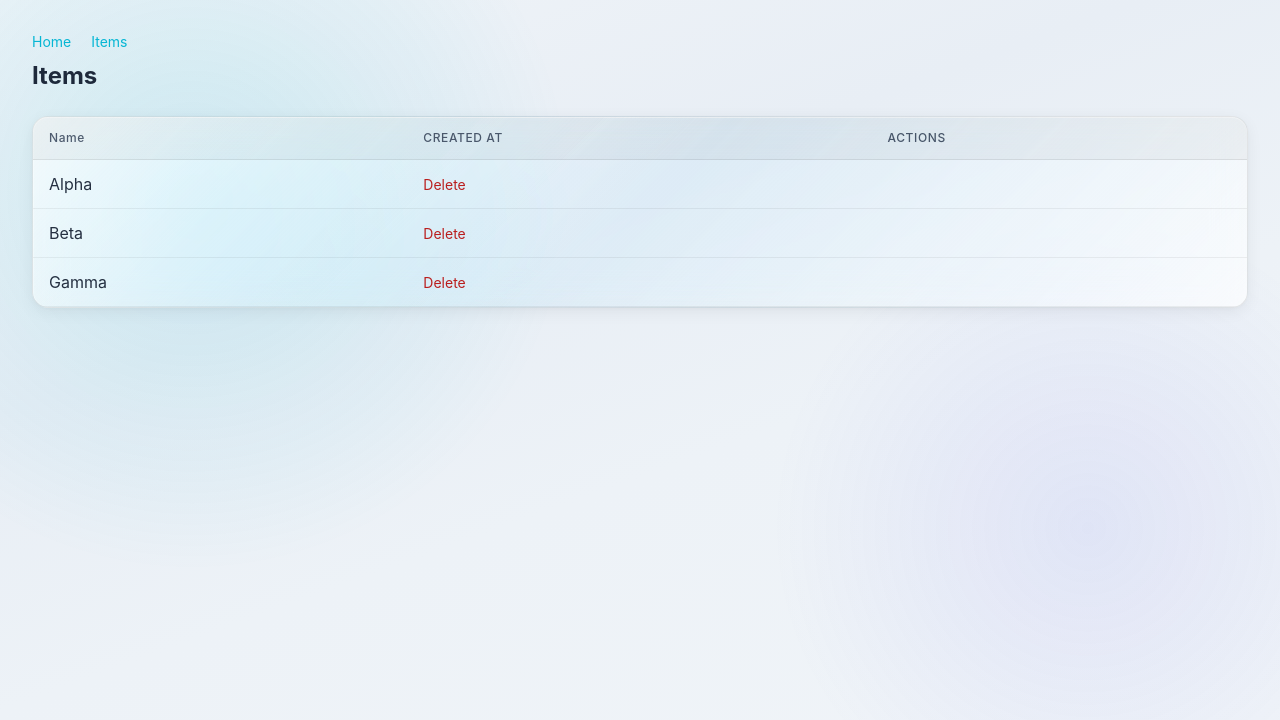
Test case: EntityListPage › uses the custom deleteMessage in the ConfirmDialog
Click the button "Delete" in the row of "Alpha" at point(444, 185), box x1=423 y1=175 x2=466 y2=195
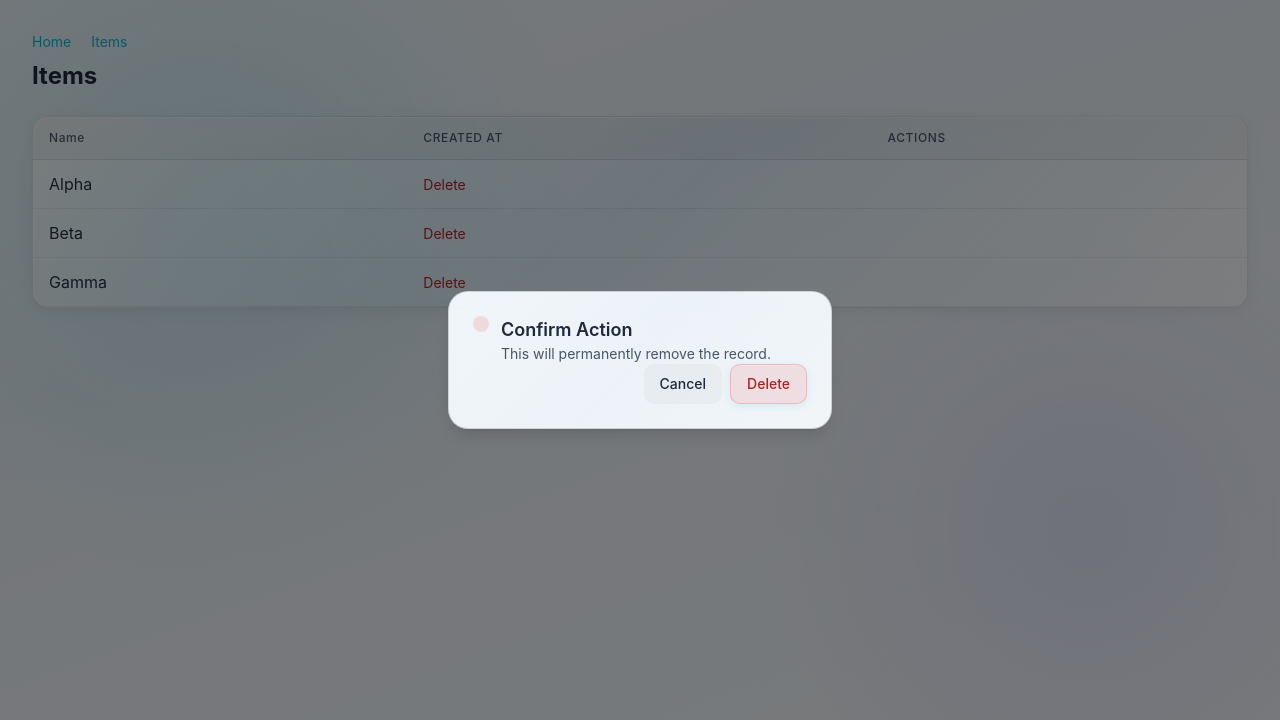
Check: the text "This will permanently remove the record." is shown, box x1=501 y1=344 x2=771 y2=364
